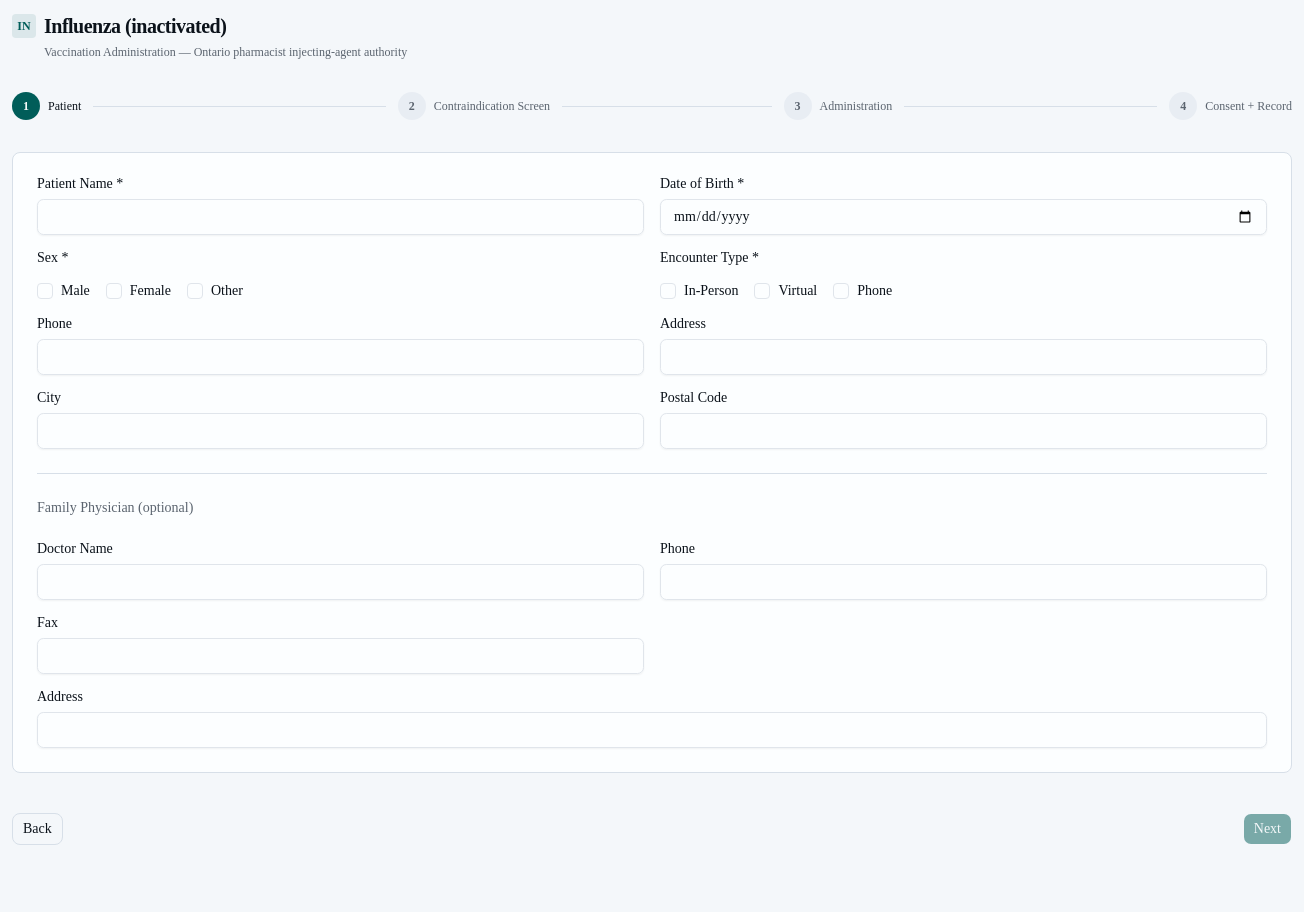
it: VaccinationWizard gating › routes step 2 to the WithholdPanel when a withhold contraindication is checked
Type "Jane Doe" into the field labelled "Patient Name *" at (340, 217), box [37,199,644,235]
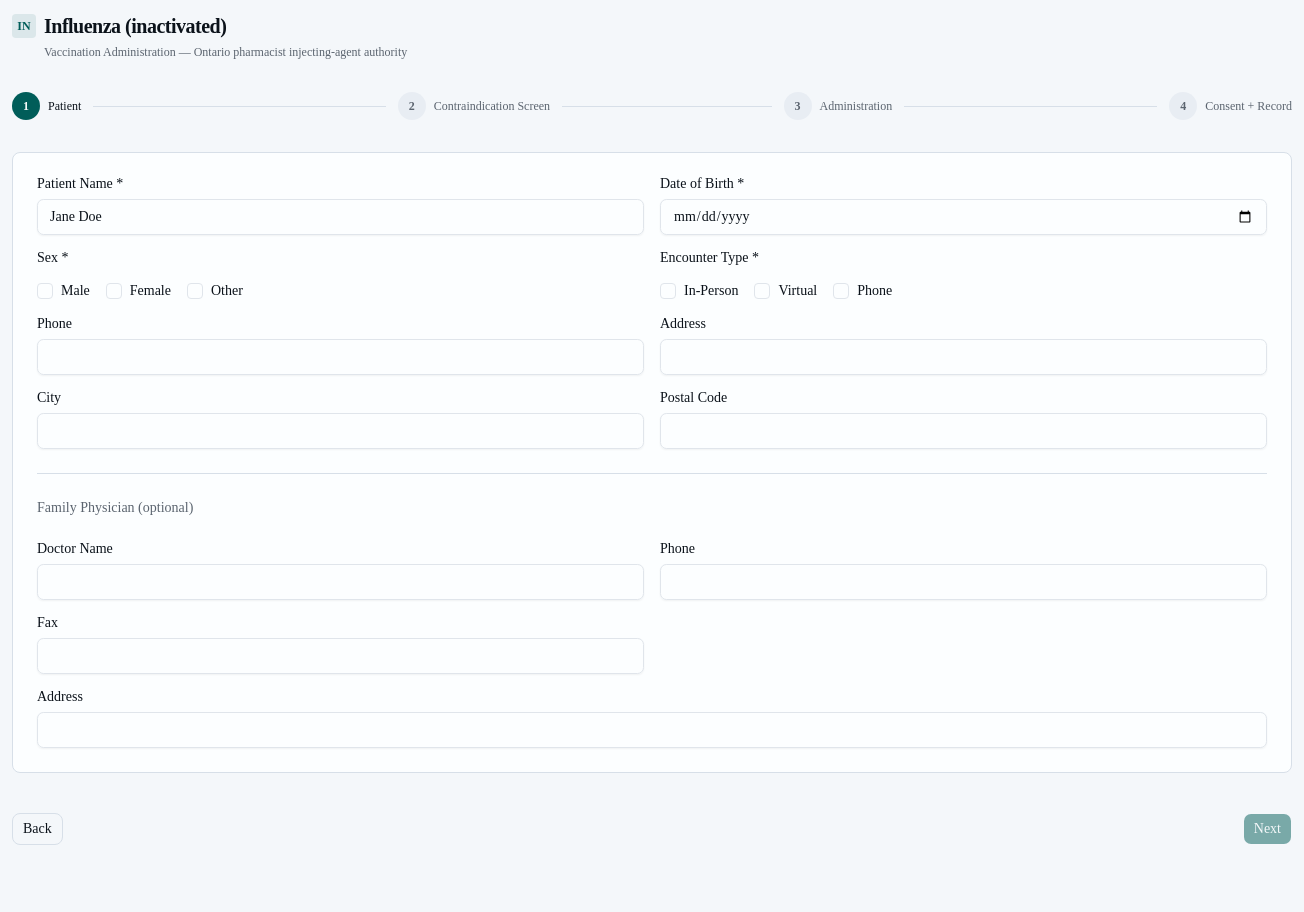
Type "1990-01-01" into the date field labelled "Date of Birth *" at (964, 217), box [660,199,1267,235]
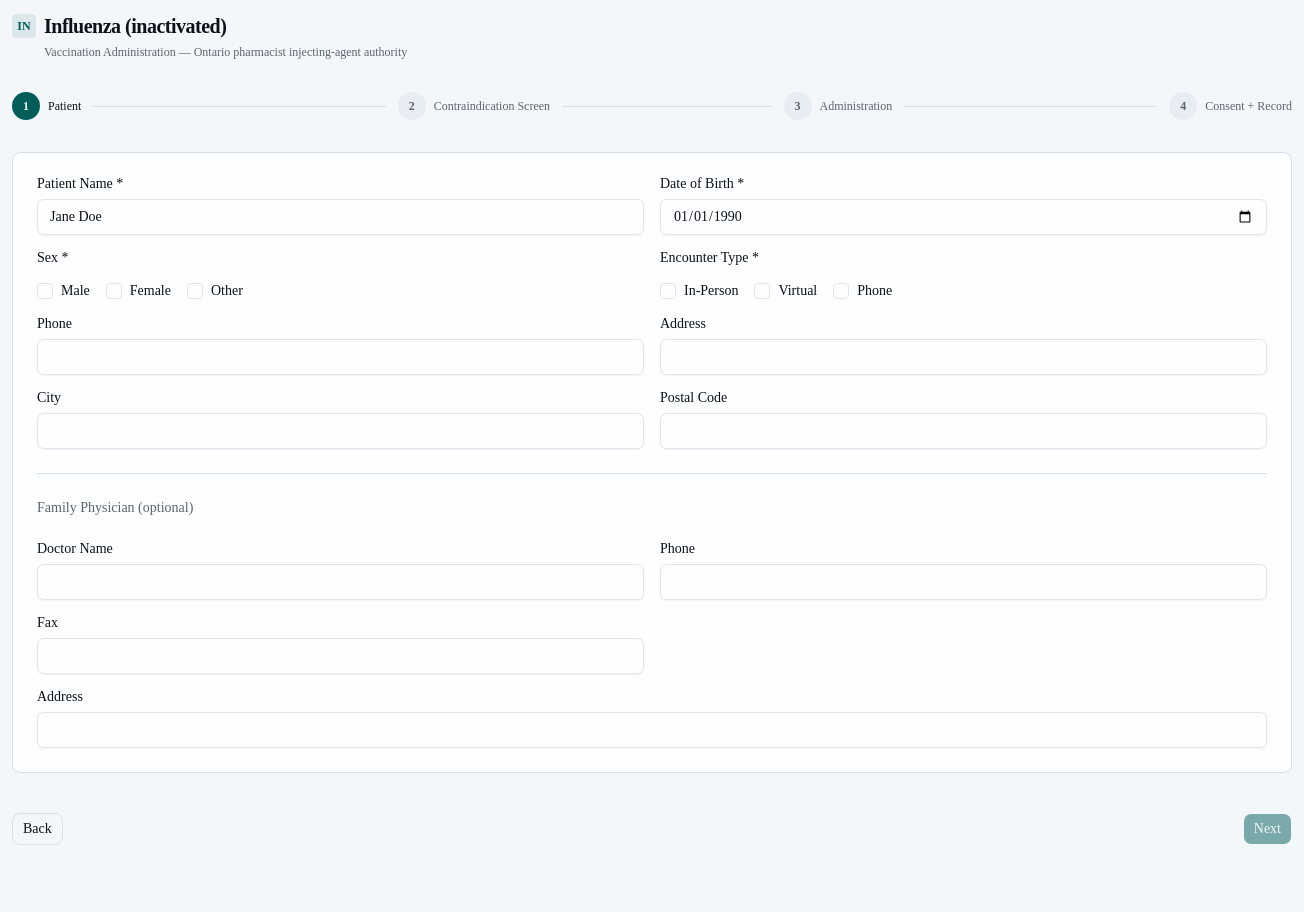
Click the checkbox named "In-Person" next to "In-Person" at (668, 291), box [660,283,676,299]
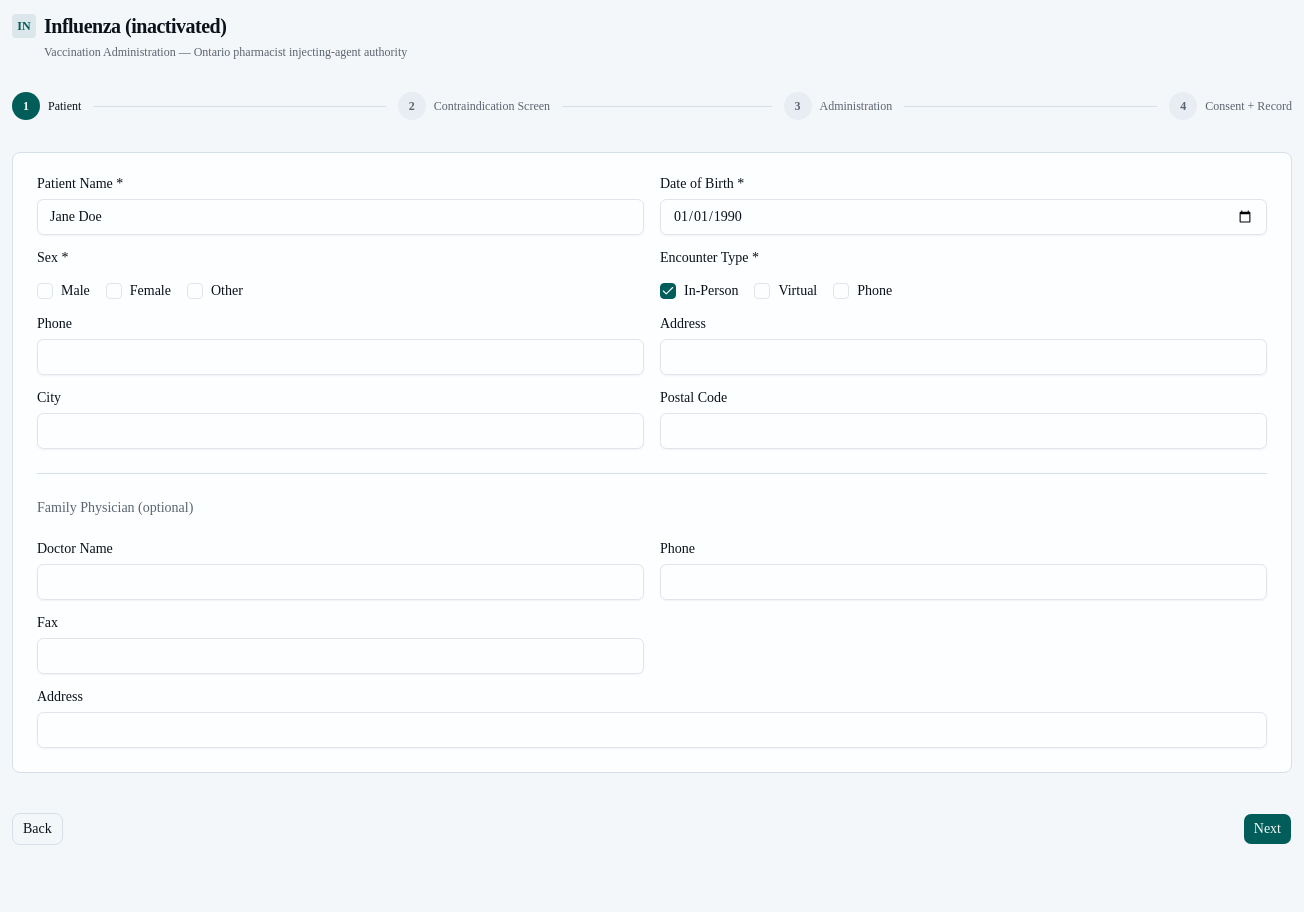
Click the button "Next" at (1267, 829), box [1243,813,1292,845]
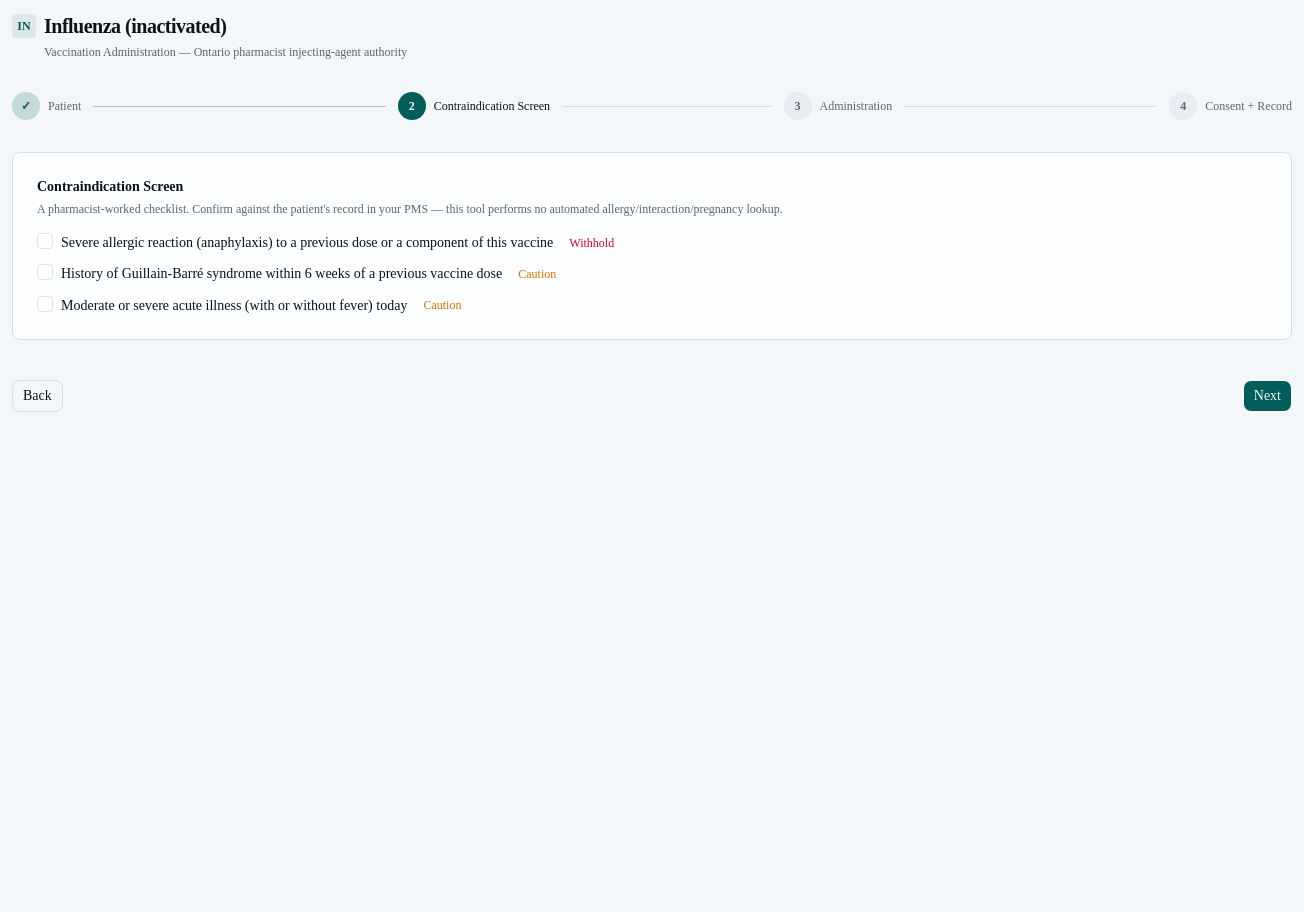
Click the checkbox "Severe allergic reaction (anaphylaxis) to a previous dose or a component of this vaccine" at (338, 243), box [61,233,614,252]
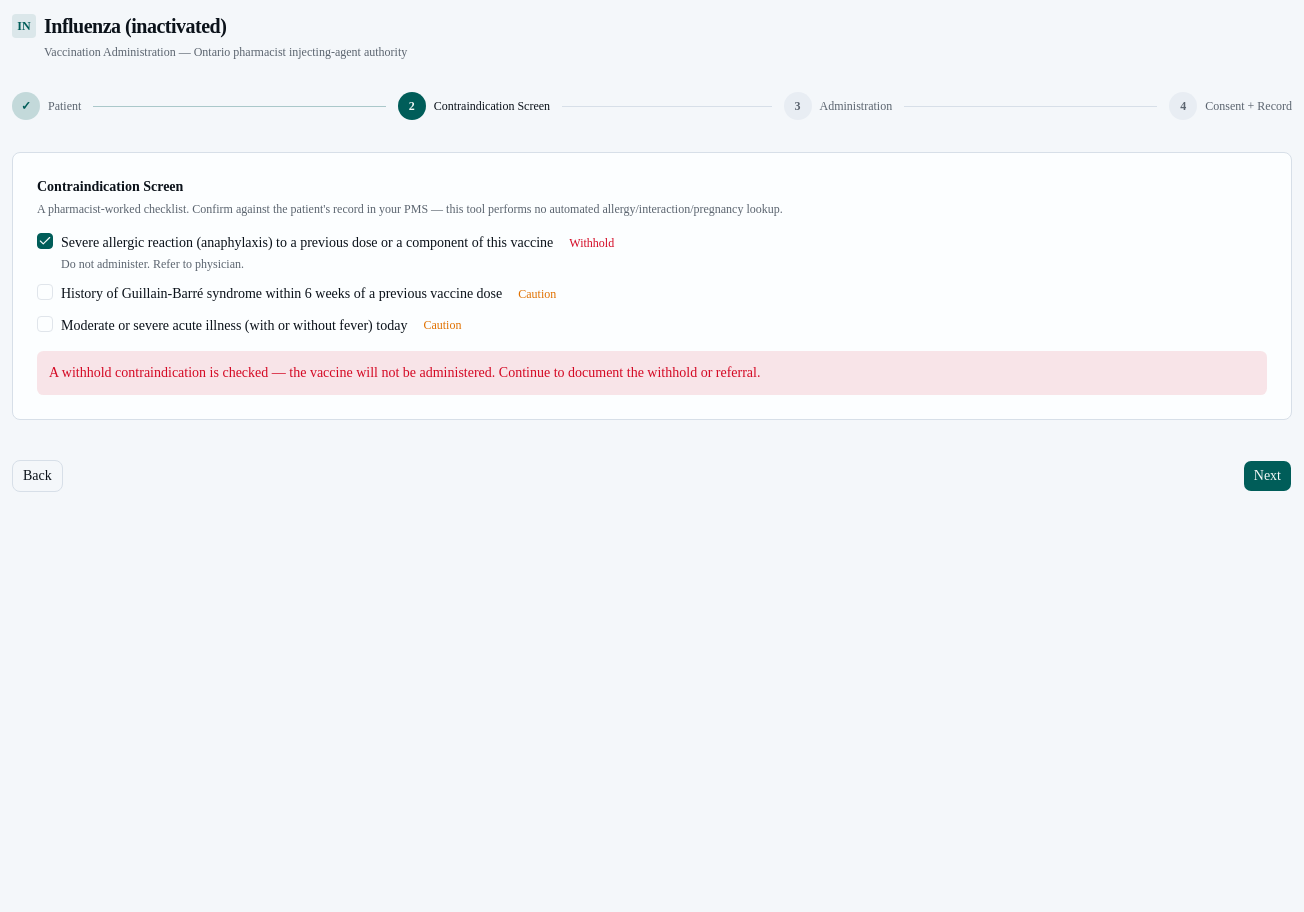
Click the button "Next" at (1267, 476), box [1243,460,1292,492]
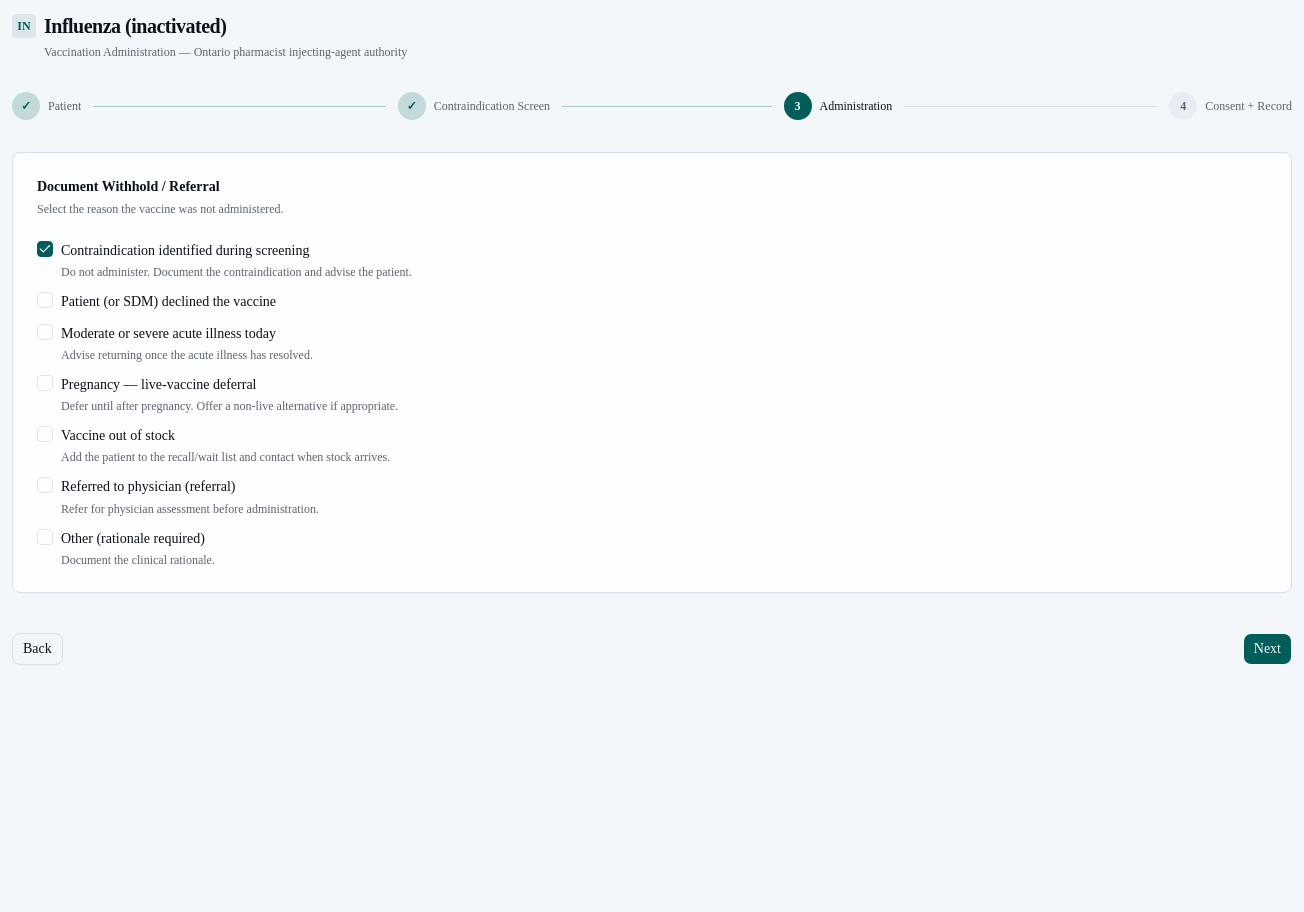
expect the heading "Document Withhold / Referral" is shown: met, box [37,179,220,194]
expect the checkbox "Patient (or SDM) declined the vaccine" is shown: met, box [61,292,276,312]
